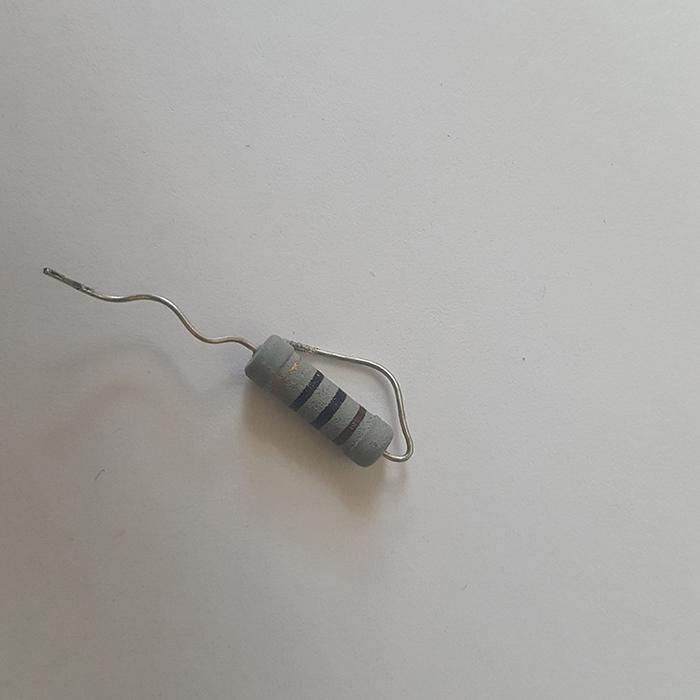resistor: (243, 333, 397, 468)
